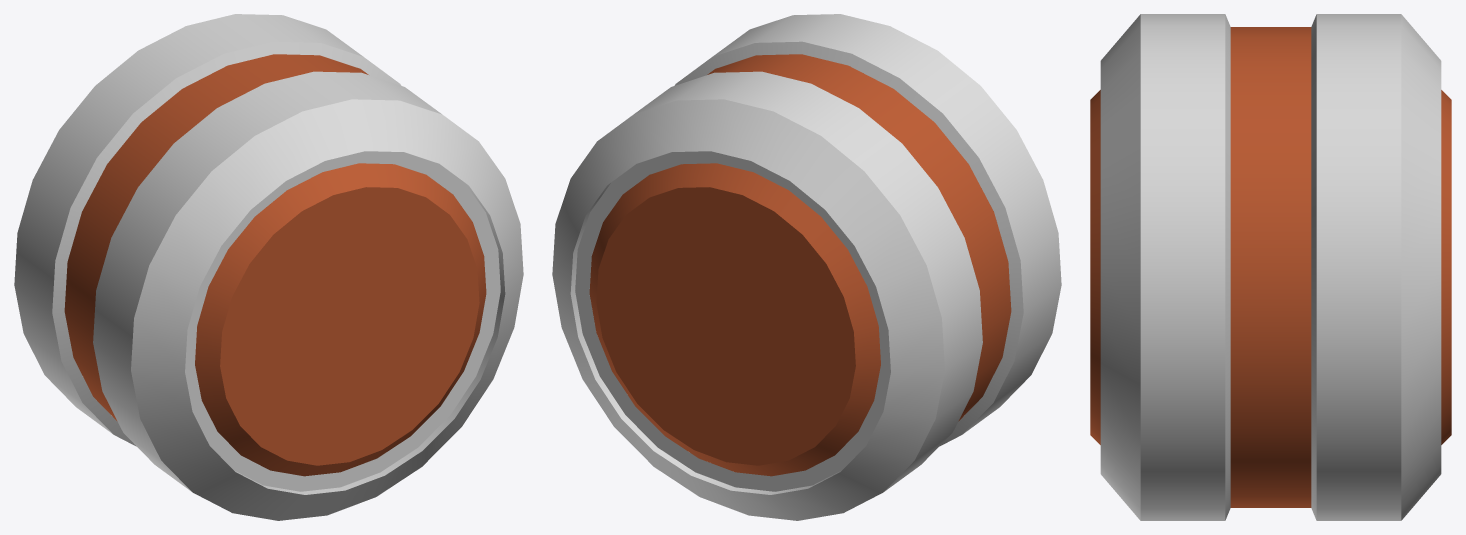
File: Cylinder_Pistol_1.glb
3 renders of one model, left to right at view 1: azimuth 30°, elevation 25°; view 2: azimuth 150°, elevation 25°; view 3: azimuth 270°, elevation 25°, orthographic. The views are drawn at different scales.
Parts seen in each view (by area): view 1: Accessory_Pistol_1; view 2: Accessory_Pistol_1; view 3: Accessory_Pistol_1.
Boxes of the visible parts, left/top/right/bottom form: Accessory_Pistol_1: left=14, top=14, right=523, bottom=520; Accessory_Pistol_1: left=552, top=14, right=1061, bottom=520; Accessory_Pistol_1: left=1090, top=14, right=1451, bottom=520.
Size of the model in its own units: 0.25 by 0.2495 by 0.1782.
